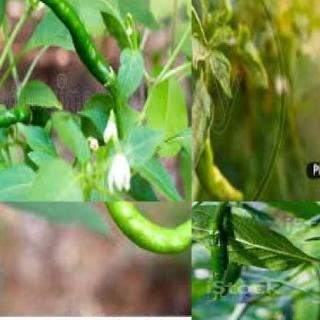green_chilli: (7, 0, 118, 92), (95, 202, 191, 260), (192, 141, 248, 201), (202, 225, 234, 297), (0, 102, 35, 142)
